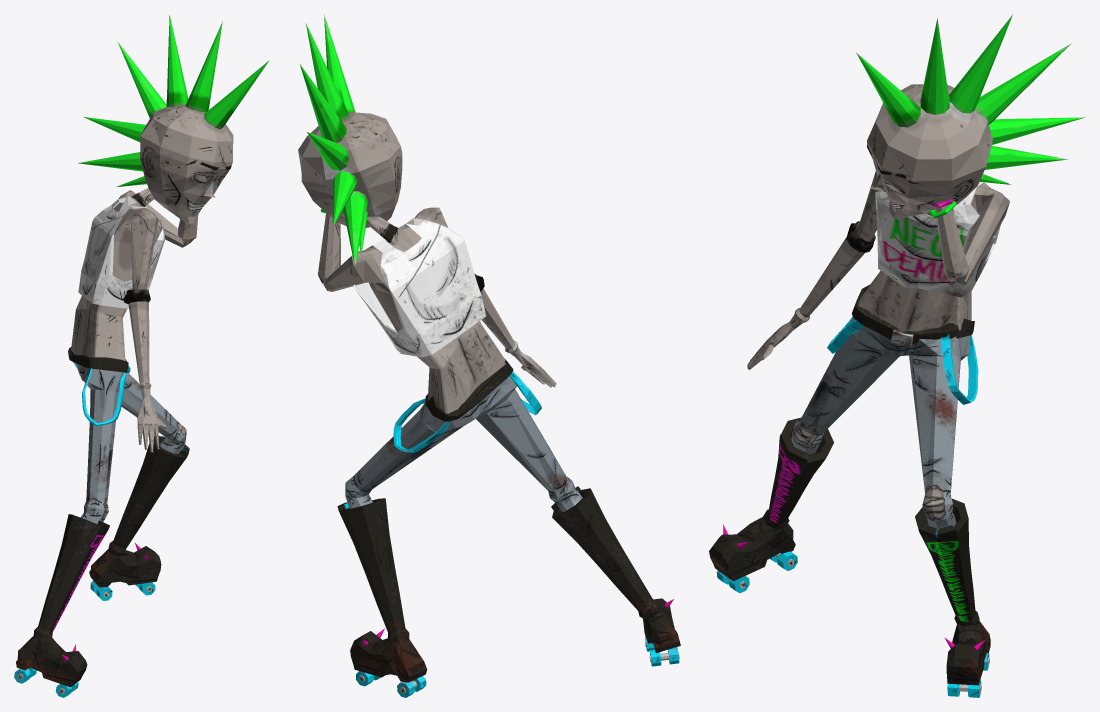
Rendered from punkAnimation_000027.obj.
3 renders of one model, left to right at view 1: azimuth 30°, elevation 25°; view 2: azimuth 150°, elevation 25°; view 3: azimuth 270°, elevation 25°, orthographic. The views are drawn at different scales.
Visible parts, largest first — view 1: Cube.004_Cube.003; view 2: Cube.004_Cube.003; view 3: Cube.004_Cube.003.
Boxes of the visible parts, x1,y1,x2,y2 form: Cube.004_Cube.003: (14,15,269,697); Cube.004_Cube.003: (298,14,680,697); Cube.004_Cube.003: (709,14,1085,697).
Size of the model in its own units: 3.57 by 6.71 by 3.18.
